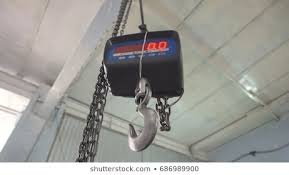Industrial Scale: (100, 1, 187, 152)
